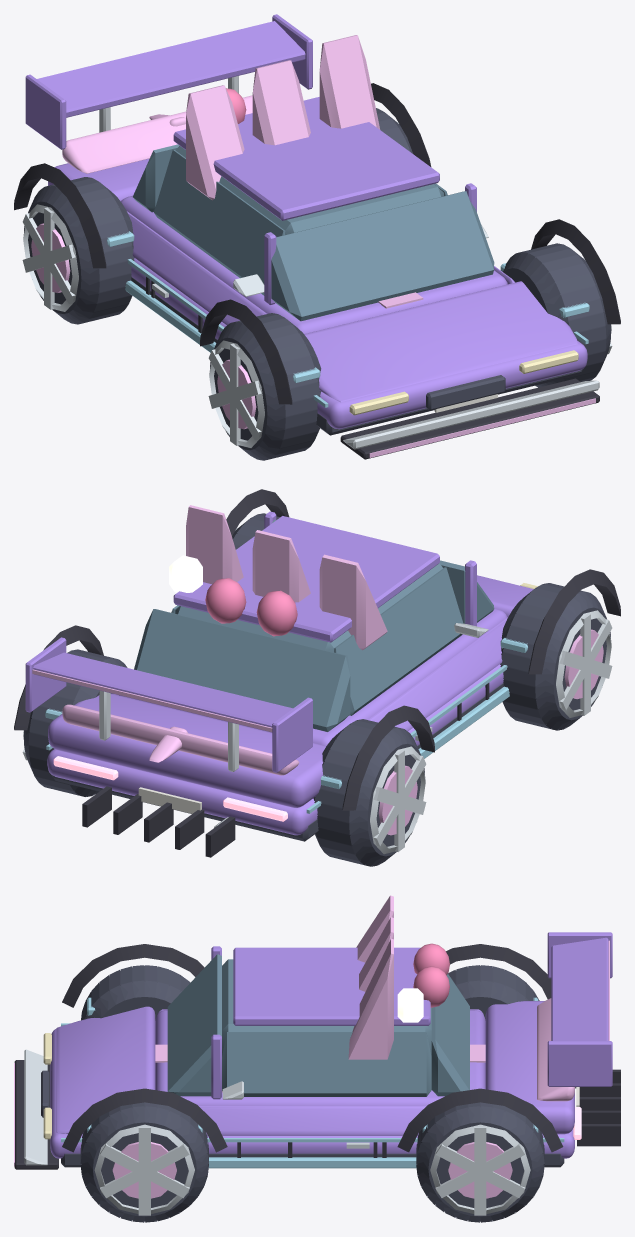
File: crystal_carriage.fbx
3 renders of one model, top to bottom at view 1: azimuth 30°, elevation 25°; view 2: azimuth 150°, elevation 25°; view 3: azimuth 270°, elevation 25°, orthographic. The views are drawn at different scales.
Visible parts, largest first — view 1: Body, Glass, Light, Trim, Wheel_FR, Wheel_RR, Metal, Wheel_FL, Accent2, Accent3, Accent, Trim2 (+3 smaller); view 2: Body, Glass, Trim, Light, Metal, Wheel_FR, Wheel_RR, Accent2, Wheel_RL, Accent5, Accent, Metal2 (+5 smaller); view 3: Body, Glass, Trim, Metal, Wheel_RL, Wheel_FL, Light, Wheel_FR, Accent, Wheel_RR, Accent3, Metal2 (+5 smaller).
Part boxes in pixels (<box>): Body: <box>25,14,587,429</box>; Glass: <box>133,144,494,321</box>; Light: <box>186,35,595,457</box>; Trim: <box>14,83,620,459</box>; Wheel_FR: <box>210,313,321,460</box>; Wheel_RR: <box>23,177,134,324</box>; Metal: <box>22,76,612,447</box>; Wheel_FL: <box>502,243,611,387</box>; Accent2: <box>62,95,252,173</box>; Accent3: <box>233,224,599,449</box>; Accent: <box>107,231,589,407</box>; Trim2: <box>131,277,582,435</box>; Body: <box>25,511,533,835</box>; Glass: <box>134,520,494,731</box>; Trim: <box>14,489,620,857</box>; Light: <box>32,505,387,731</box>; Metal: <box>22,528,612,854</box>; Wheel_FR: <box>500,583,611,730</box>; Wheel_RR: <box>313,719,424,866</box>; Accent2: <box>62,704,299,775</box>; Wheel_RL: <box>23,649,127,796</box>; Accent5: <box>205,578,297,636</box>; Accent: <box>45,638,527,813</box>; Metal2: <box>378,629,603,835</box>; Body: <box>50,932,612,1158</box>; Glass: <box>167,954,469,1096</box>; Trim: <box>14,944,620,1169</box>; Metal: <box>94,1087,576,1215</box>; Wheel_RL: <box>416,1102,544,1222</box>; Wheel_FL: <box>80,1102,208,1222</box>; Light: <box>14,895,609,1166</box>; Wheel_FR: <box>81,965,190,1020</box>; Accent: <box>61,997,564,1168</box>; Wheel_RR: <box>448,965,539,1020</box>; Accent3: <box>24,1049,243,1165</box>; Metal2: <box>112,1142,512,1198</box>.
Bounding box in the file's own units: 3.31 × 2.33 × 5.44.
